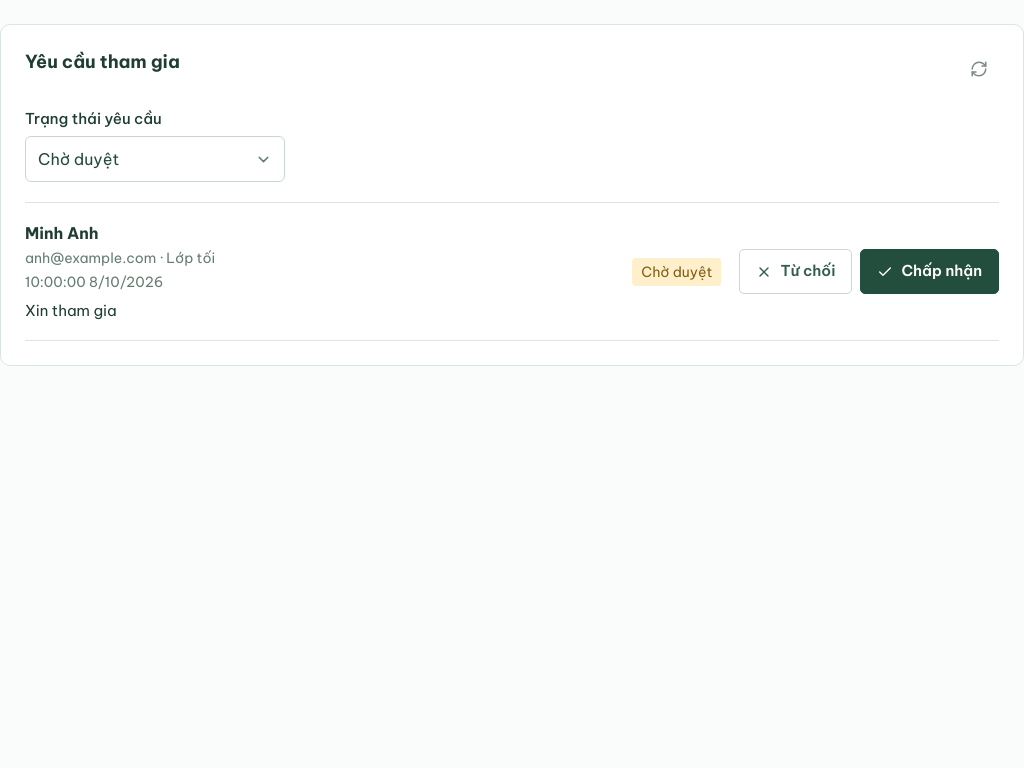
Test: enrollment workflows › keeps the review form open when a processed request is rejected
This screenshot has width=1024, height=768.
Click the button "Chấp nhận": click(930, 272) [860,249,999,294]
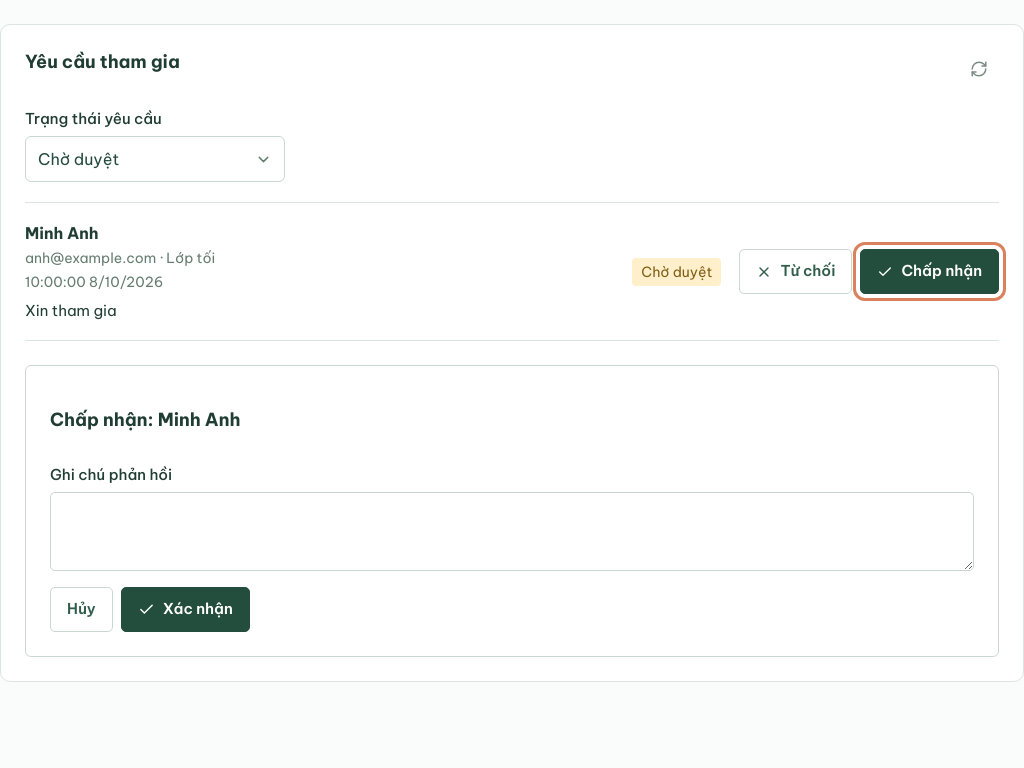
Click the button "Xác nhận": click(185, 609) [121,587,250,632]
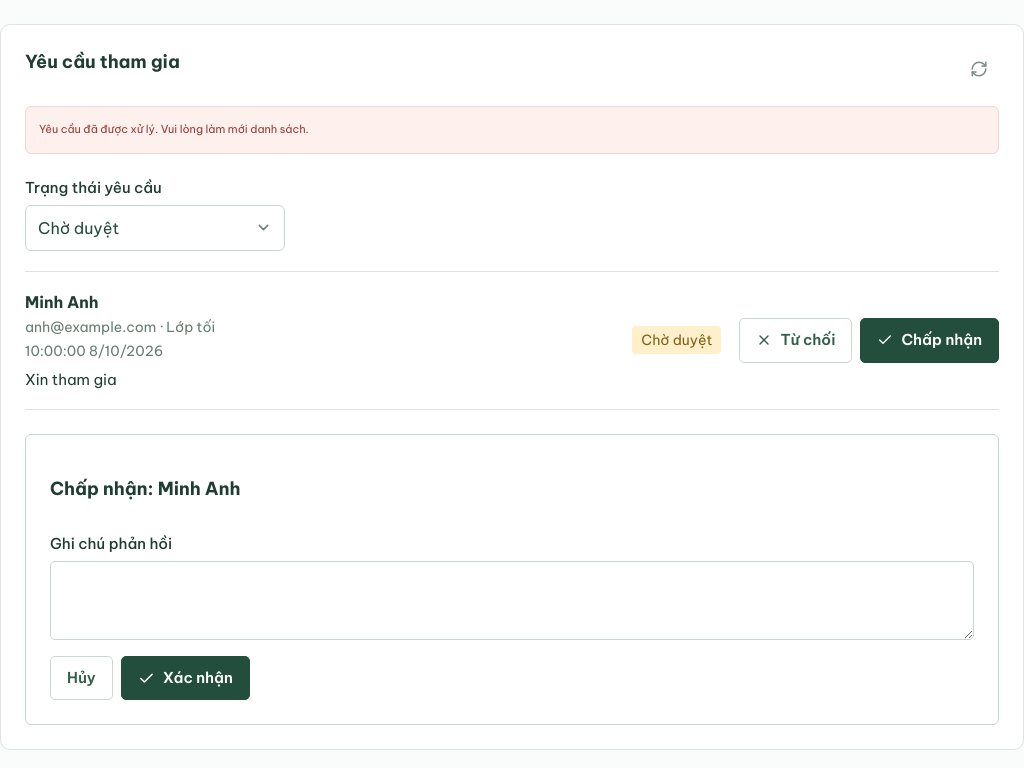
Check: the text box labelled "Ghi chú phản hồi" is shown, box [50,561,974,640]
Check: the message shows "Yêu cầu đã được xử lý", box [39,122,309,136]
